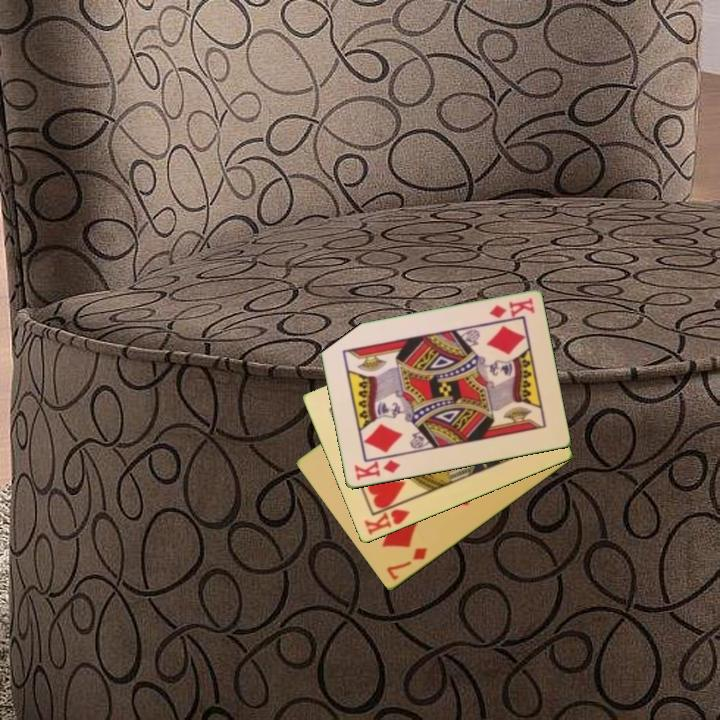7d: (383, 544, 430, 583)
Kd: (350, 457, 403, 484), (486, 294, 537, 322)
Kh: (360, 498, 413, 538)
